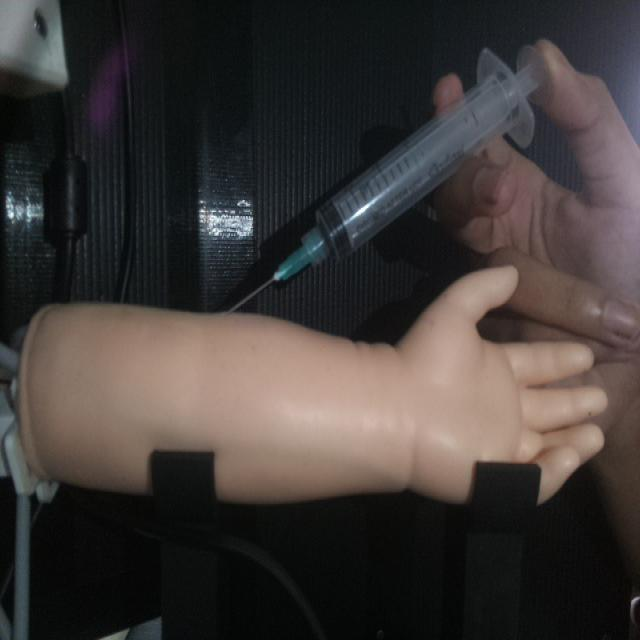Outside: (224, 36, 552, 319)
